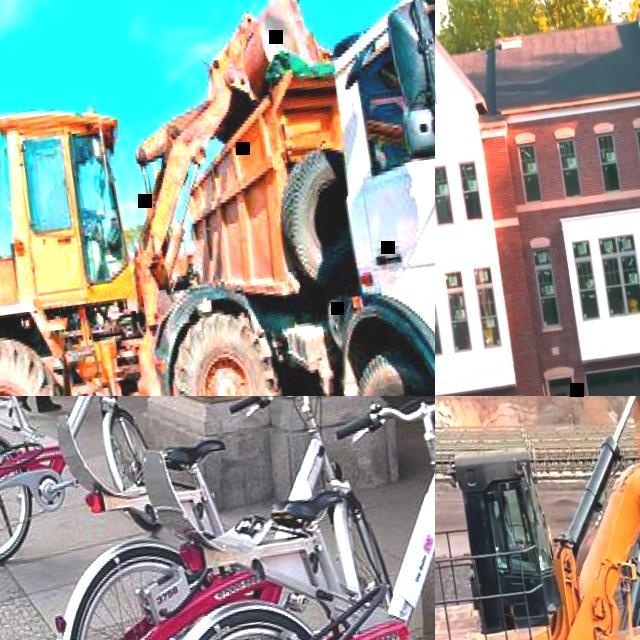NO-Hardhat: (498, 494, 511, 511)
NO-Safety Vest: (497, 517, 524, 556)
Person: (44, 166, 94, 234), (492, 491, 529, 558)
machinery: (0, 0, 388, 396), (153, 0, 435, 396), (435, 396, 640, 640)
